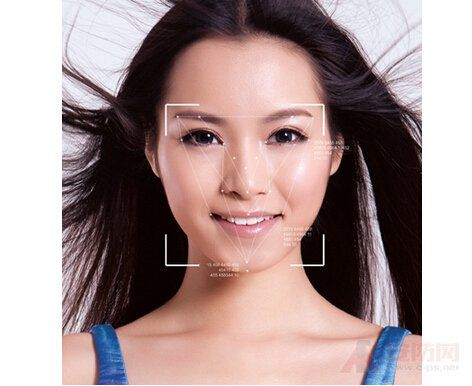no_mask: (162, 39, 336, 271)
